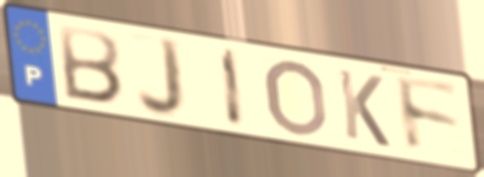B: (56, 22, 125, 108)
F: (392, 72, 464, 156)
I: (219, 44, 247, 131)
J: (134, 34, 188, 121)
K: (335, 66, 393, 151)
O: (263, 56, 330, 138)
